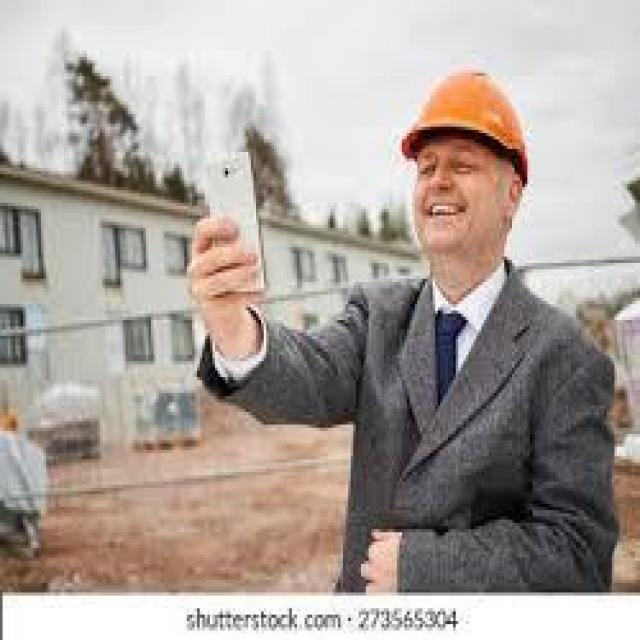hat: (400, 63, 530, 184)
